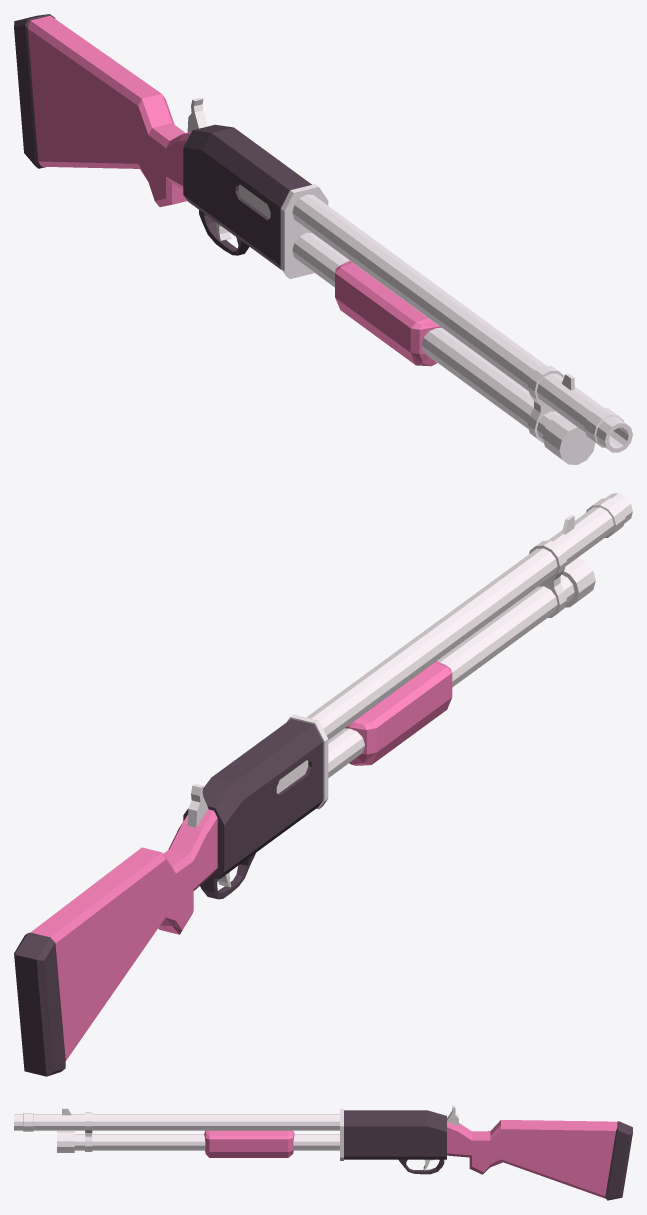
The model's file is Shotgun_3.obj.
3 renders of one model, top to bottom at view 1: azimuth 30°, elevation 25°; view 2: azimuth 150°, elevation 25°; view 3: azimuth 270°, elevation 25°, orthographic. The views are drawn at different scales.
Visible parts, largest first — view 1: Body, Grip, Hardware; view 2: Grip, Body, Hardware; view 3: Grip, Body, Hardware.
Boxes of the visible parts, x1,y1,x2,y2 form: Body: (187, 97, 632, 464); Grip: (28, 15, 441, 366); Hardware: (14, 14, 311, 269); Grip: (30, 661, 452, 1060); Body: (187, 493, 632, 887); Hardware: (14, 719, 323, 1076); Grip: (204, 1120, 617, 1198); Body: (14, 1105, 459, 1170); Hardware: (344, 1110, 632, 1200).
Bounding box in the file's own units: 0.2216 × 0.8474 × 5.2.
